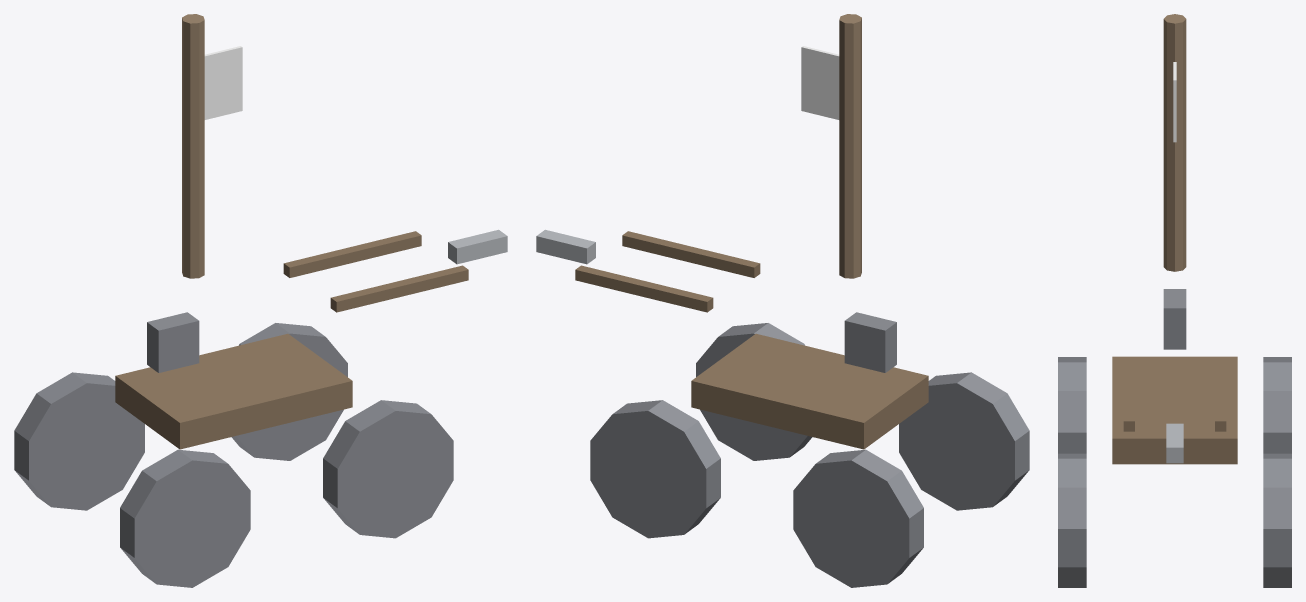
Rendered from vanguard_ballista.glb.
3 renders of one model, left to right at view 1: azimuth 30°, elevation 25°; view 2: azimuth 150°, elevation 25°; view 3: azimuth 270°, elevation 25°, orthographic. The views are drawn at different scales.
Visible parts, largest first — view 1: vanguard_ballista; view 2: vanguard_ballista; view 3: vanguard_ballista.
Part boxes in pixels (<box>): vanguard_ballista: <box>14,14,507,587</box>; vanguard_ballista: <box>536,14,1029,587</box>; vanguard_ballista: <box>1058,14,1291,587</box>.
Size of the model in its own units: 42.21 by 48 by 20.5.
